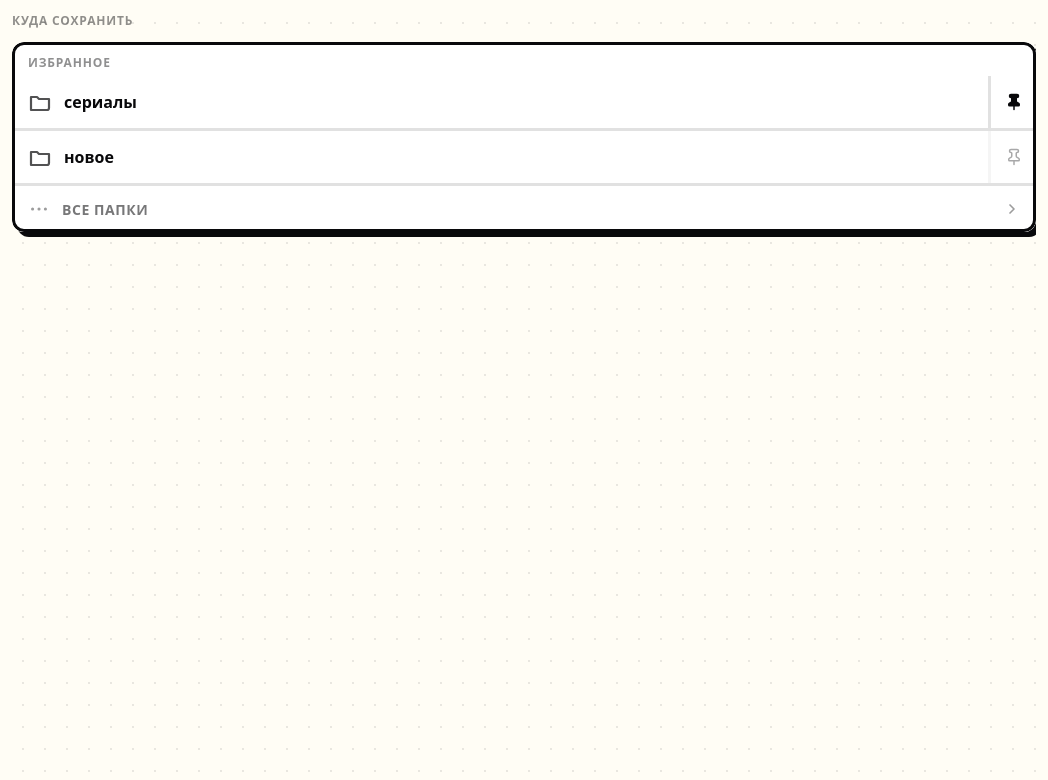
FolderPicker — favorites (#306) › the pin button in the favorites group unpins (row returns to the quick list)
The favorites group's pin button comes first in DOM order.
Click the 1st button with test id "pin-btn".
click(1012, 102)  # box x1=988 y1=76 x2=1036 y2=128
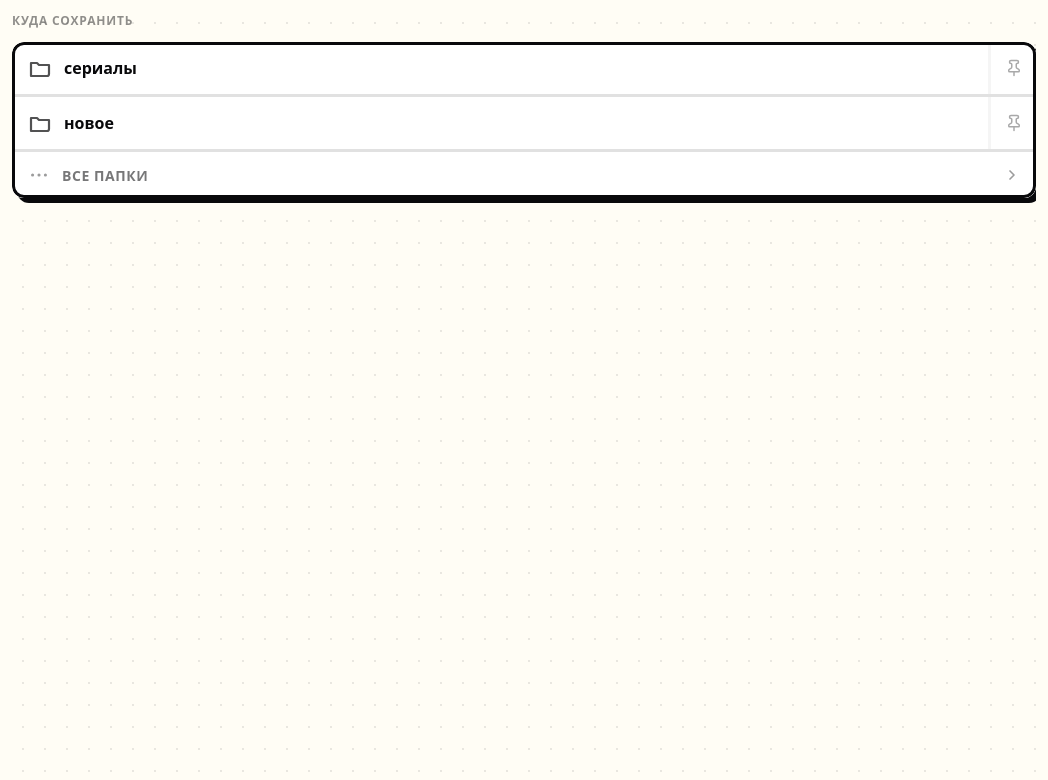
Check: the number of radio buttons with test id "folder-tile" is 2, box x1=12 y1=42 x2=988 y2=94; x1=12 y1=97 x2=988 y2=149
